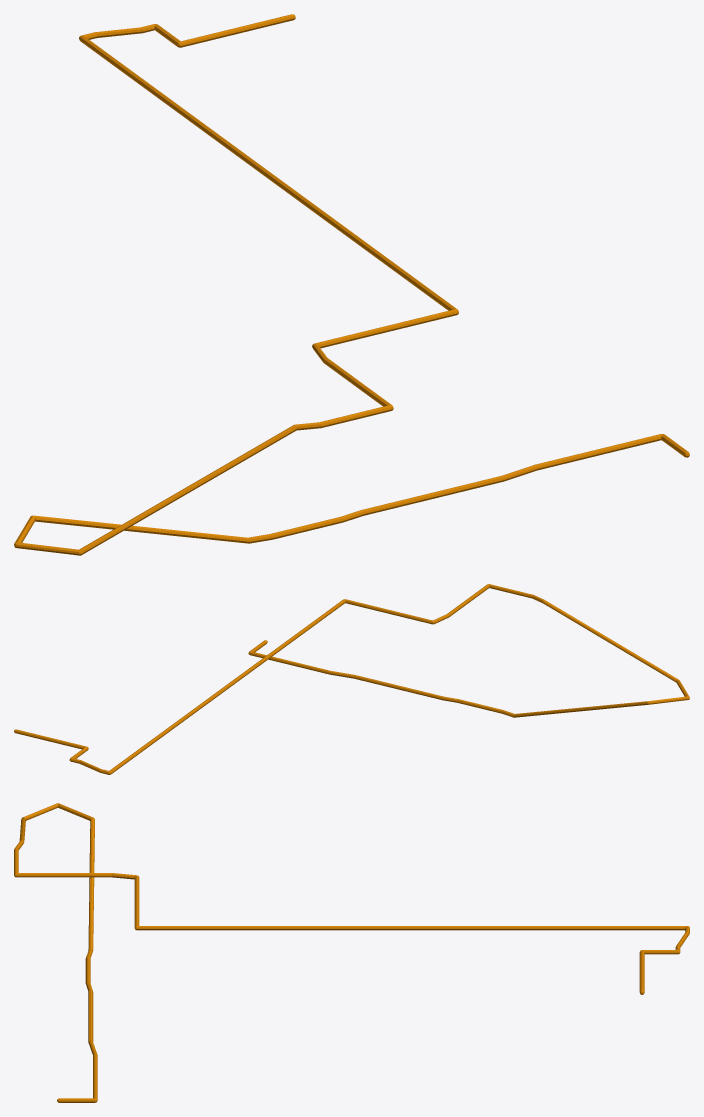
3 renders of one model, top to bottom at view 1: azimuth 30°, elevation 25°; view 2: azimuth 150°, elevation 25°; view 3: azimuth 270°, elevation 25°, orthographic. The views are drawn at different scales.
Size of the model in its own units: 2407 by 520 by 2824.
